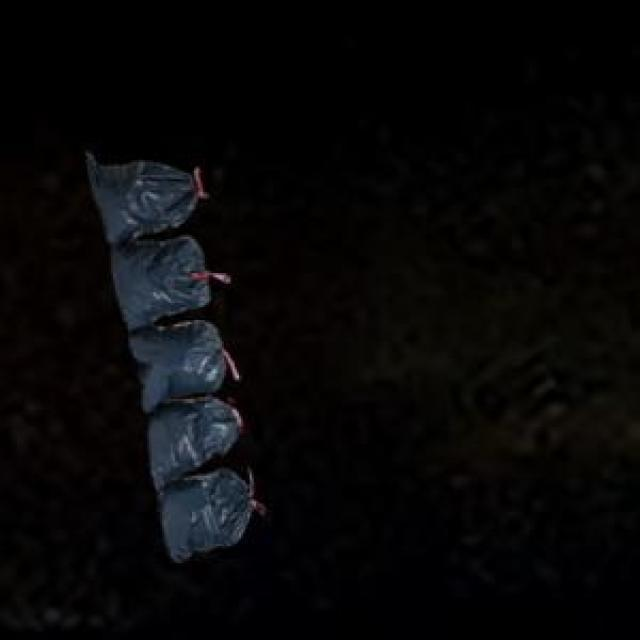Vinyl: (88, 154, 254, 562)
